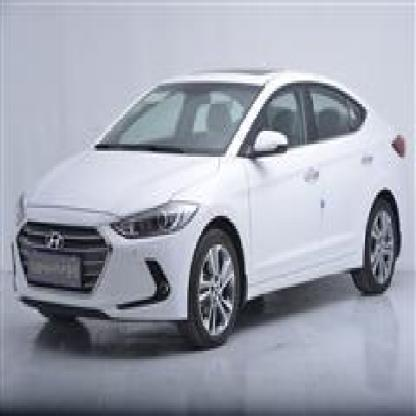Car: (7, 58, 416, 336)
